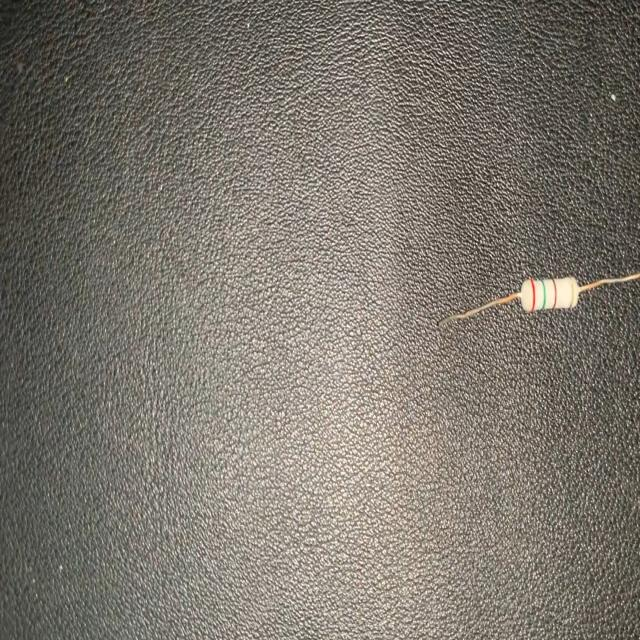resistor: (435, 258, 640, 340)
